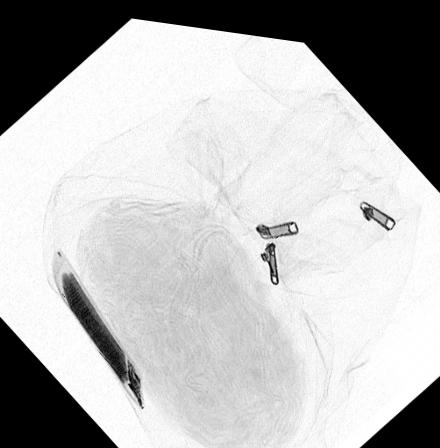Powerbank: (52, 244, 147, 407)
